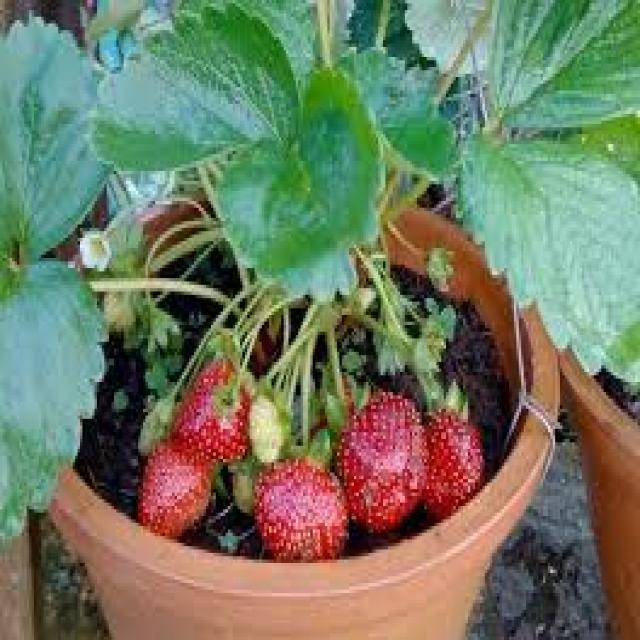Fruta sana: (326, 392, 426, 532), (170, 358, 262, 462), (260, 454, 350, 558), (414, 392, 484, 514), (139, 434, 209, 540)
